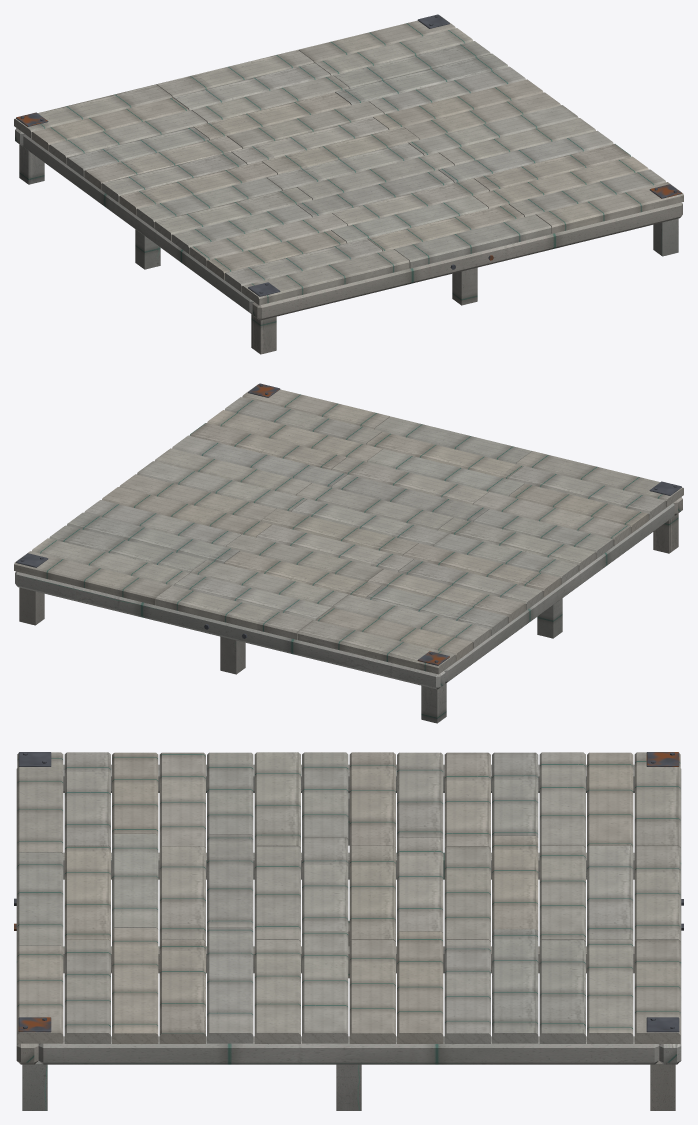
Rendered from makine_platformu_buyuk.glb.
3 views of the same model, one above another, from view 1: azimuth 30°, elevation 25°; view 2: azimuth 150°, elevation 25°; view 3: azimuth 270°, elevation 25° (orthographic). The views are drawn at different scales.
Visible parts, largest first — view 1: makine_platformu_buyuk; view 2: makine_platformu_buyuk; view 3: makine_platformu_buyuk.
Part boxes in pixels (x1=…): makine_platformu_buyuk: x1=14, y1=14, x2=683, y2=354; makine_platformu_buyuk: x1=14, y1=383, x2=683, y2=723; makine_platformu_buyuk: x1=14, y1=752, x2=683, y2=1110.
Size of the model in its own units: 9 by 1.24 by 9.07.
1 material, 1 textured.
